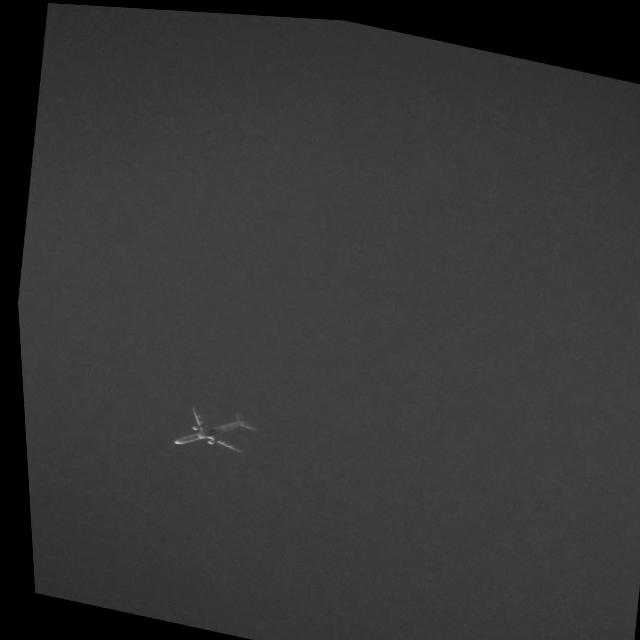aeroplane: (160, 396, 257, 460)
